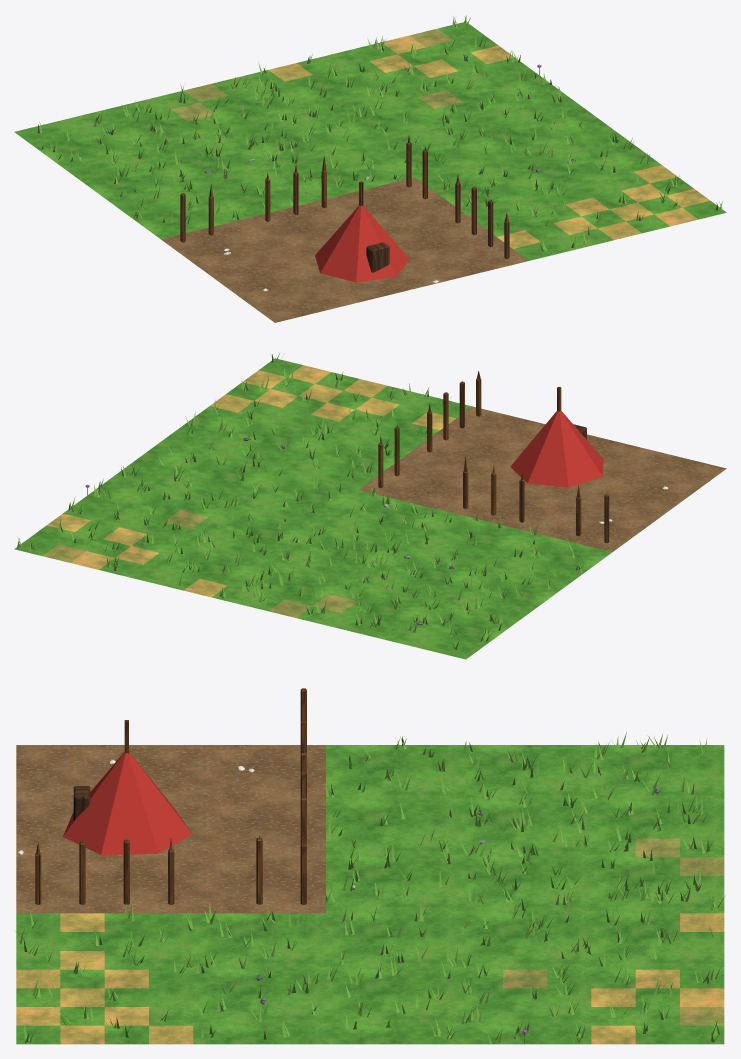
File: chunk_7_7.glb
3 views of the same model, one above another, from view 1: azimuth 30°, elevation 25°; view 2: azimuth 150°, elevation 25°; view 3: azimuth 270°, elevation 25° (orthographic). The views are drawn at different scales.
Parts seen in each view (by area): view 1: chunk_7_7; view 2: chunk_7_7; view 3: chunk_7_7.
Boxes of the visible parts, bbox=[...] form: chunk_7_7: bbox=[14, 15, 726, 322]; chunk_7_7: bbox=[14, 353, 726, 659]; chunk_7_7: bbox=[15, 688, 724, 1044].
Bounding box in the file's own units: 16.09 × 2.76 × 16.11.
14 materials, 10 textured.
